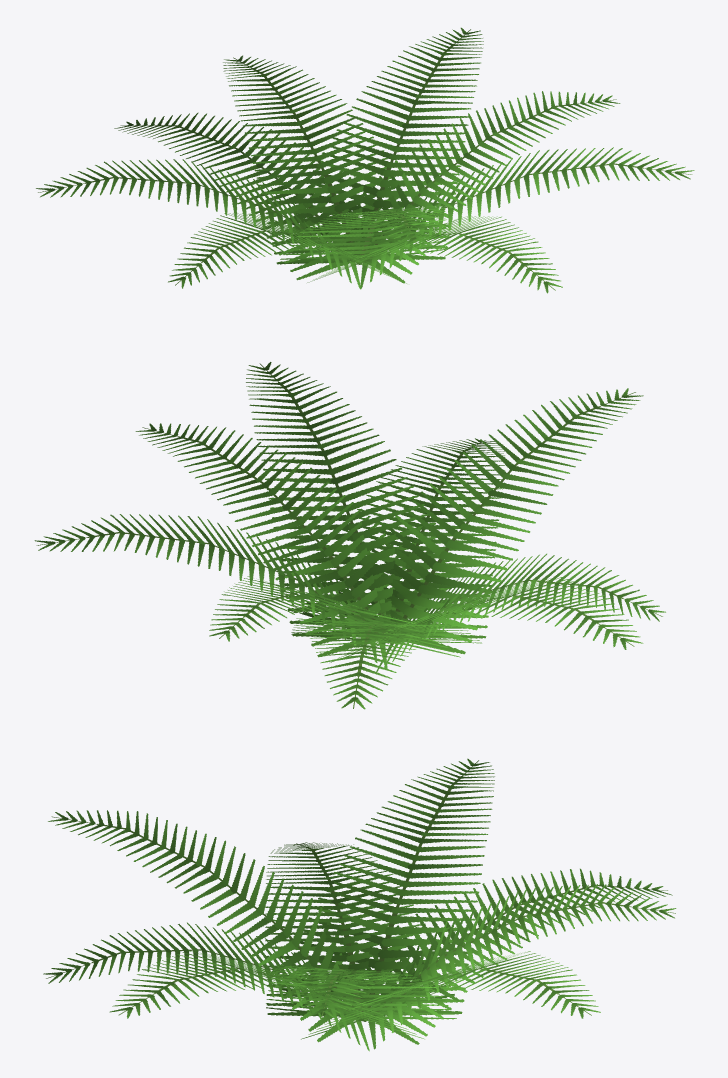
The model's file is fern.glb.
3 views of the same model, one above another, from view 1: azimuth 30°, elevation 25°; view 2: azimuth 150°, elevation 25°; view 3: azimuth 270°, elevation 25° (orthographic). The views are drawn at different scales.
Visible parts, largest first — view 1: fern; view 2: fern; view 3: fern.
Boxes of the visible parts, x1=… form: fern: x1=36, y1=27, x2=694, y2=293; fern: x1=34, y1=362, x2=665, y2=709; fern: x1=43, y1=758, x2=676, y2=1051.
Size of the model in its own units: 1.67 by 0.3917 by 1.56.
Materials: 1 (1 with a texture image).
